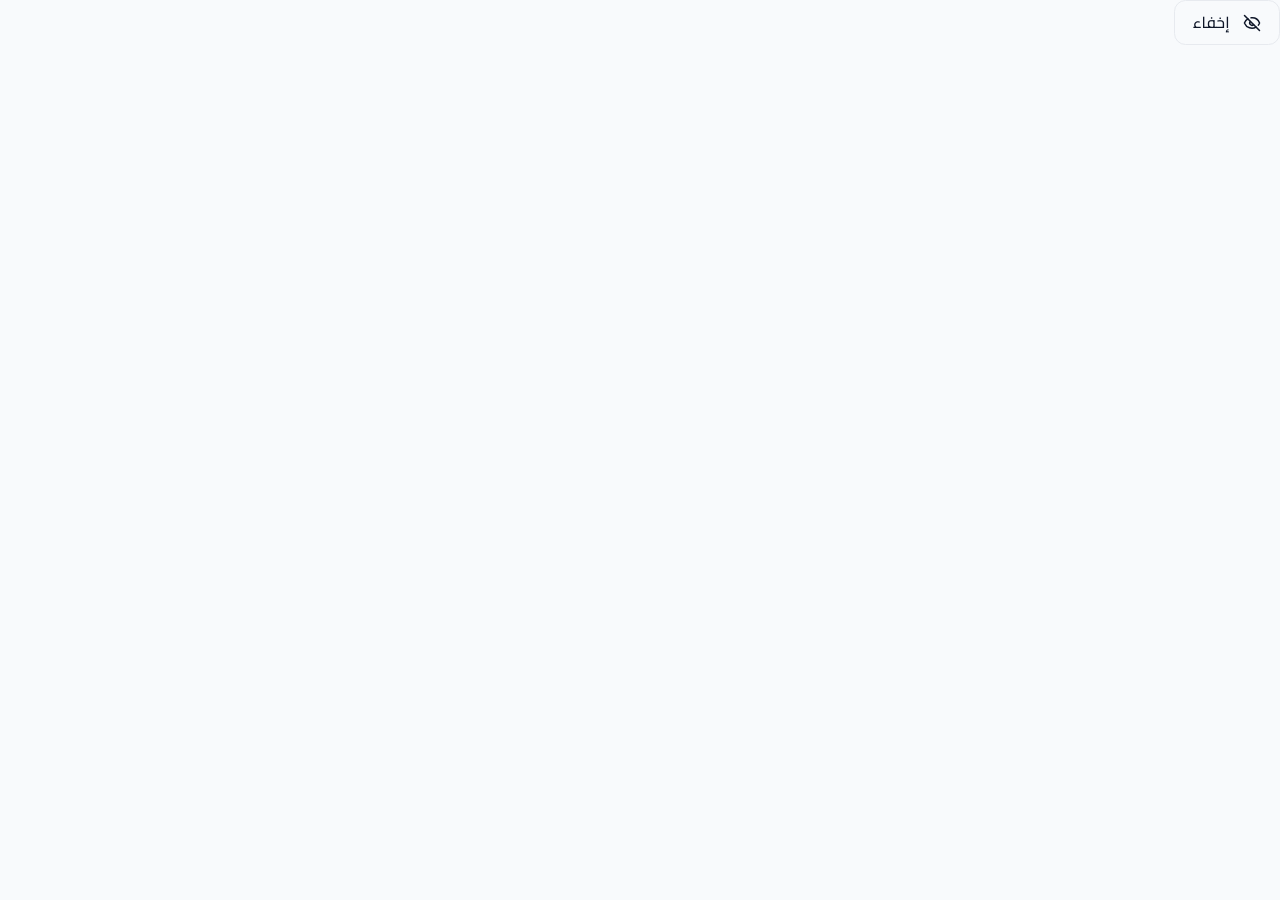
it: «إخفاء الحساب» button (migration 0226) › the owner hides an account: dialog explains, reason sent, then it shows «مخفي» + «إظهار»
This screenshot has width=1280, height=900.
Click the button "إخفاء" at [1227, 22], box [1174,0,1279,45]
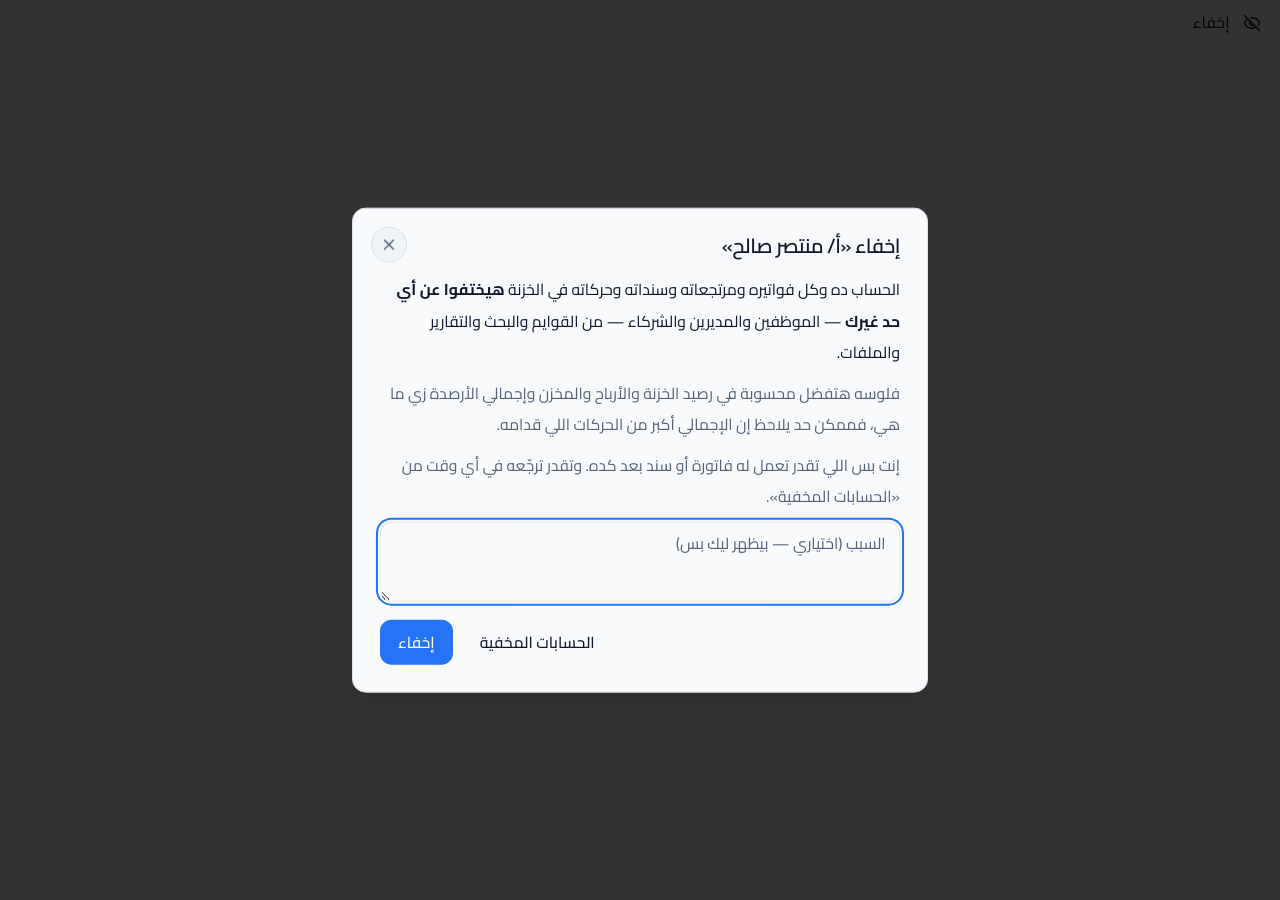
Now the text "هيختفوا عن أي حد غيرك" is shown, box [396,274,900,335]
Type "خاص" into the text box with placeholder "السبب (اختياري — بيظهر ليك بس)" at [640, 561], box [380,521,900,601]
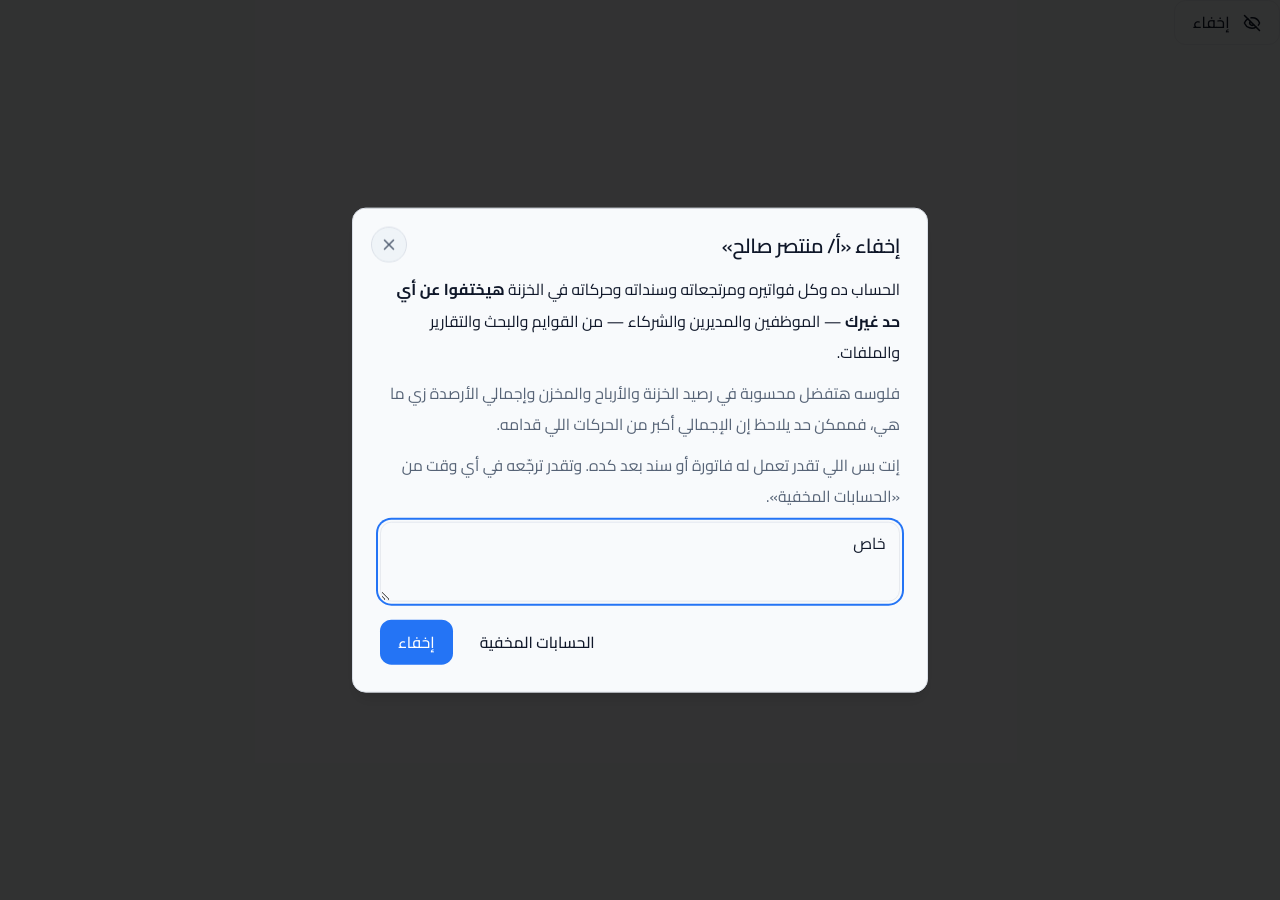
Click the button "إخفاء" at [416, 642], box [380,619,453,664]
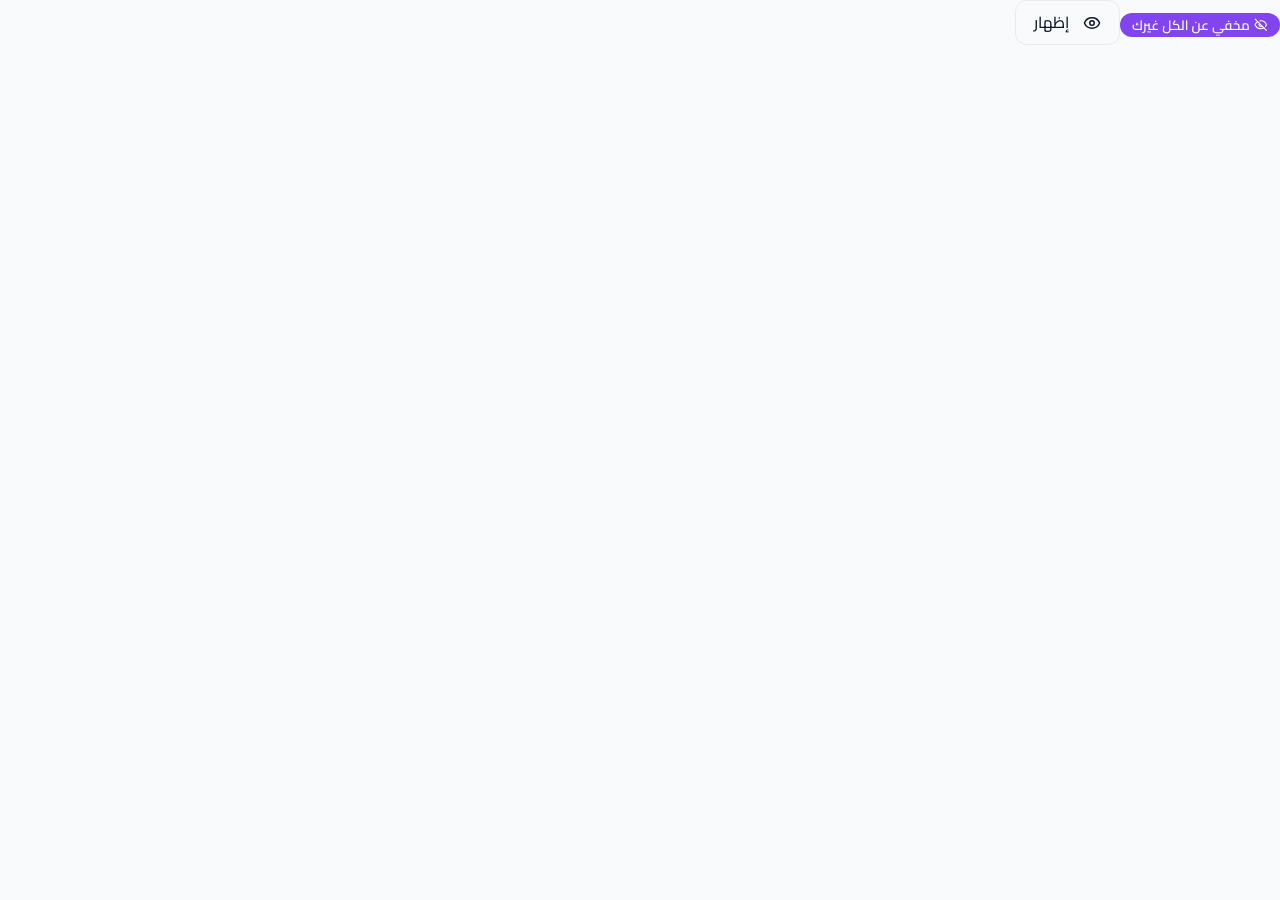
Now the text "مخفي عن الكل غيرك" is shown, box [1120,12,1279,37]
Now the button "إظهار" is shown, box [1015,0,1120,45]
